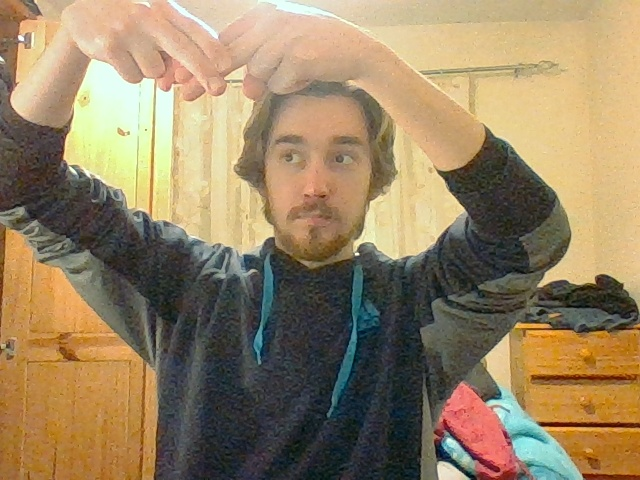father: (155, 1, 264, 101)
